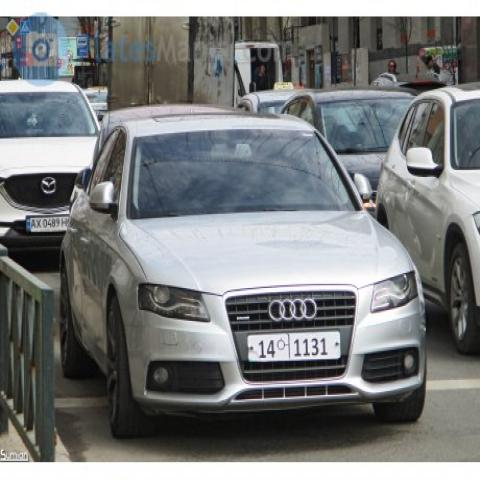LP: (237, 324, 350, 376)
